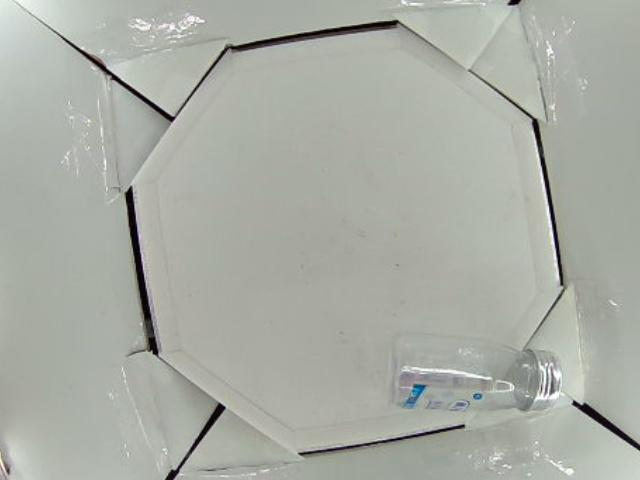Bottle: (389, 333, 564, 415)
